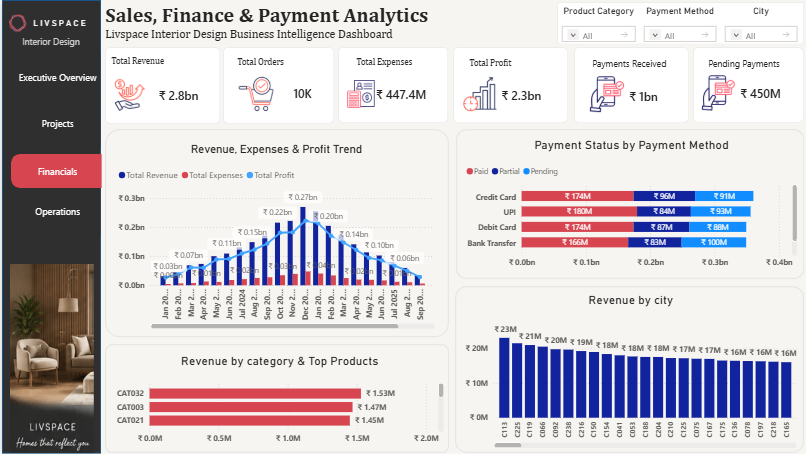

This screenshot's page, from the dashboard's own definition file:
{"tool":"powerbi","page":{"name":"Page 3","canvas":[1280,720],"ordinal":2},"visuals":[{"type":"group","id":"g1","title":"Group 1","box":[0,0,157.6,719.7],"z":0},{"type":"shape","box":[0,0,157.4,719.7],"z":0,"group":"g1"},{"type":"shape","box":[720,204.6,553.2,238.3],"z":0,"group":"g8"},{"type":"shape","box":[719,454,554,265.1],"z":0,"group":"g9"},{"type":"shape","box":[162.9,546.4,546.4,173.2],"z":0,"group":"g10"},{"type":"textbox","box":[158.3,0,1121.7,75],"z":1000},{"type":"shape","box":[20.6,86.4,135.7,74.3],"z":1000,"group":"g1"},{"type":"barChart","title":"Payment Status by Payment Method","fields":{"Category":["payments.payment_method"],"Y":["Sum(payments.amount_paid)"],"Series":["payments.payment_status"]},"box":[731.1,214.4,535.4,220.8],"z":1000,"group":"g8"},{"type":"clusteredColumnChart","title":"Revenue by city","fields":{"Category":["customers.city_id"],"Y":["All Measures.Total Revenue"]},"box":[729.5,460.4,536.1,251.7],"z":1000,"group":"g9"},{"type":"clusteredBarChart","title":"Revenue by category & Top Products","fields":{"Category":["products.category_id","products.product_name"],"Y":["All Measures.Total Revenue"]},"box":[175,556.9,529.7,152.1],"z":1000,"group":"g10"},{"type":"image","box":[11.8,18.8,29.4,34.7],"z":2000,"group":"g1"},{"type":"group","id":"g2","title":"Group 2","box":[162.9,75,182.7,121.8],"z":2000},{"type":"textbox","box":[44.1,22.9,101.6,36.1],"z":3000,"group":"g1"},{"type":"group","id":"g3","title":"Group 4","box":[351.4,75,176.4,122.9],"z":3000},{"type":"textbox","box":[26.5,50,115.7,31.4],"z":4000,"group":"g1"},{"type":"group","id":"g4","title":"Group 6","box":[533.6,75,174.3,120.7],"z":4000},{"type":"group","id":"g5","title":"Group 7","box":[907.5,74,182.2,120.5],"z":5000},{"type":"shape","box":[14,245,144.3,54.1],"z":5000,"group":"g1"},{"type":"group","id":"g6","title":"Group 7","box":[716.4,74,182,120.7],"z":6000},{"type":"image","box":[13.1,419.7,132.8,300],"z":6000,"group":"g1"},{"type":"group","id":"g7","title":"Group 7","box":[1096.8,74.5,175.5,120.2],"z":7000},{"type":"shape","box":[20.7,159.2,135.7,74.3],"z":7000,"group":"g1"},{"type":"shape","box":[163.1,204.6,546.2,330.8],"z":8000,"group":"g11"},{"type":"group","id":"g8","title":"Group 3","box":[720,204.6,553.8,236.9],"z":8000},{"type":"shape","box":[20,298.8,135.7,74.3],"z":8000,"group":"g1"},{"type":"lineClusteredColumnComboChart","title":"Revenue, Expenses & Profit Trend","fields":{"Category":["Date.Month Year"],"Y":["All Measures.Total Revenue","All Measures.Total Expenses"],"Y2":["All Measures.Total Profit"]},"box":[178.5,220,512.3,301.5],"z":9000,"group":"g11"},{"type":"group","id":"g9","title":"Group 5","box":[719,454,554,265.1],"z":9000},{"type":"shape","box":[880.8,3.8,391.9,67.1],"z":10000,"group":"g12"},{"type":"shape","box":[162.9,75,182.7,121.8],"z":10000,"group":"g2"},{"type":"group","id":"g10","title":"Group 8","box":[162.9,546.4,546.4,173.2],"z":10000},{"type":"cardVisual","title":"Total Revenue","fields":{"Data":["All Measures.Total Revenue"]},"box":[231.2,121.4,108.2,59.1],"z":11000,"group":"g2"},{"type":"group","id":"g11","title":"Group 9","box":[163.1,204.6,546.2,330.8],"z":11000},{"type":"group","id":"g12","title":"Group 6","box":[880.8,3.8,392.3,67.3],"z":12000},{"type":"textSlicer","title":"Product Category","fields":{"Values":["product_categories.category_name"]},"box":[884.9,7.2,123,62.4],"z":12000,"group":"g12"},{"type":"textbox","box":[168.3,83.6,95.8,30.8],"z":12000,"group":"g2"},{"type":"image","box":[177.9,124.4,50,54.1],"z":13000,"group":"g2"},{"type":"textSlicer","title":"Payment Method","fields":{"Values":["payments.payment_method"]},"box":[1016.3,7.2,120.8,62],"z":15000,"group":"g12"},{"type":"shape","box":[351.4,75,176.2,122],"z":15000,"group":"g3"},{"type":"shape","box":[716.4,74,182,120.7],"z":16000,"group":"g6"},{"type":"shape","box":[907.5,74,182,120.7],"z":16000,"group":"g5"},{"type":"shape","box":[1096.8,74.5,175.5,120.2],"z":16000,"group":"g7"},{"type":"textSlicer","title":"City","fields":{"Values":["cities.city_name"]},"box":[1144.2,7.2,120.8,62],"z":17000,"group":"g12"},{"type":"shape","box":[533.6,75,175,120.1],"z":17000,"group":"g4"},{"type":"cardVisual","title":"Total Revenue","fields":{"Data":["All Measures.Total Orders"]},"box":[433.2,116.9,92.2,61.1],"z":22000,"group":"g3"},{"type":"textbox","box":[368.7,83.8,95.8,30.8],"z":23000,"group":"g3"},{"type":"image","box":[368.7,120.4,70,56.7],"z":24000,"group":"g3"},{"type":"cardVisual","title":"Total Revenue","fields":{"Data":["All Measures.Total Expenses"]},"box":[557.9,120.6,145.6,55.6],"z":28000,"group":"g4"},{"type":"image","box":[548.6,122.8,44.4,54.4],"z":29000,"group":"g4"},{"type":"textbox","box":[558.1,83.9,115.6,31.1],"z":30000,"group":"g4"},{"type":"cardVisual","title":"Total Revenue","fields":{"Data":["All Measures.Pending Payments"]},"box":[1140.8,117.5,125,59.4],"z":31000,"group":"g7"},{"type":"cardVisual","title":"Total Revenue","fields":{"Data":["All Measures.Total Profit"]},"box":[760.5,121.3,128.1,57.8],"z":31000,"group":"g6"},{"type":"cardVisual","title":"Total Revenue","fields":{"Data":["All Measures.Payments Received"]},"box":[965.8,122.6,122.4,55.2],"z":31000,"group":"g5"},{"type":"image","box":[1109.6,117.5,55.1,60.1],"z":32000,"group":"g7"},{"type":"image","box":[931.9,117.7,57.1,60.3],"z":32000,"group":"g5"},{"type":"image","box":[731.3,117.8,57.1,60.3],"z":32000,"group":"g6"},{"type":"textbox","box":[737,85.1,115.6,31.1],"z":33000,"group":"g6"},{"type":"textbox","box":[931.4,85.3,141.8,31.3],"z":33000,"group":"g5"},{"type":"textbox","box":[1116.3,85.5,136.8,31.2],"z":33000,"group":"g7"}]}

Visuals, with their boxes in screenshot pixels (x1, y1, x2, y2), scaled from the page's 1280x720 canvas onto the 806x454 screenshot:
"Group 1" group: 0:0:99:453
shape: 0:0:99:453
shape: 453:129:802:279
shape: 453:286:802:453
shape: 103:345:447:453
textbox: 100:0:805:47
shape: 13:54:98:101
"Payment Status by Payment Method" barChart: 460:135:797:274
"Revenue by city" clusteredColumnChart: 459:290:797:449
"Revenue by category & Top Products" clusteredBarChart: 110:351:444:447
image: 7:12:26:34
"Group 2" group: 103:47:218:124
textbox: 28:14:92:37
"Group 4" group: 221:47:332:125
textbox: 17:32:90:51
"Group 6" group: 336:47:446:123
"Group 7" group: 571:47:686:123
shape: 9:154:100:189
"Group 7" group: 451:47:566:123
image: 8:265:92:453
"Group 7" group: 691:47:801:123
shape: 13:100:98:147
shape: 103:129:447:338
"Group 3" group: 453:129:802:278
shape: 13:188:98:235
"Revenue, Expenses & Profit Trend" lineClusteredColumnComboChart: 112:139:435:329
"Group 5" group: 453:286:802:453
shape: 555:2:801:45
shape: 103:47:218:124
"Group 8" group: 103:345:447:453
"Total Revenue" cardVisual: 146:77:214:114
"Group 9" group: 103:129:447:338
"Group 6" group: 555:2:802:45
"Product Category" textSlicer: 557:5:635:44
textbox: 106:53:166:72
image: 112:78:144:113
"Payment Method" textSlicer: 640:5:716:44
shape: 221:47:332:124
shape: 451:47:566:123
shape: 571:47:686:123
shape: 691:47:801:123
"City" textSlicer: 720:5:797:44
shape: 336:47:446:123
"Total Revenue" cardVisual: 273:74:331:112
textbox: 232:53:292:72
image: 232:76:276:112
"Total Revenue" cardVisual: 351:76:443:111
image: 345:77:373:112
textbox: 351:53:424:73
"Total Revenue" cardVisual: 718:74:797:112
"Total Revenue" cardVisual: 479:76:560:113
"Total Revenue" cardVisual: 608:77:685:112
image: 699:74:733:112
image: 587:74:623:112
image: 460:74:496:112
textbox: 464:54:537:73
textbox: 586:54:676:74
textbox: 703:54:789:74
